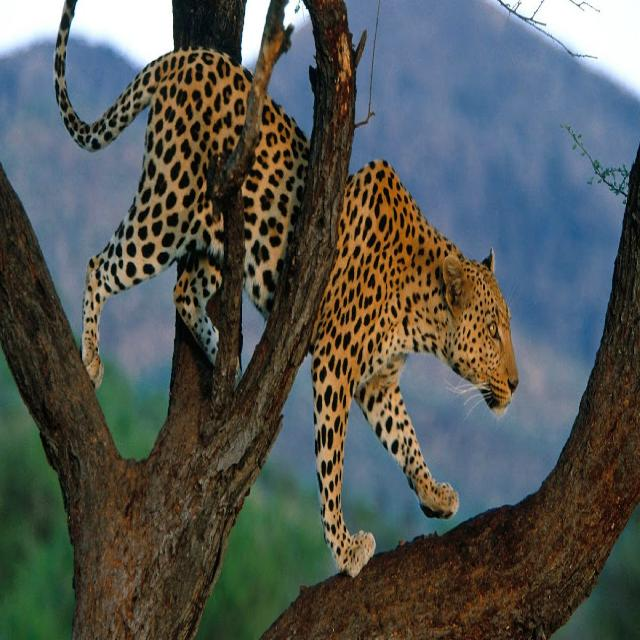Leopard: (55, 0, 519, 573)
